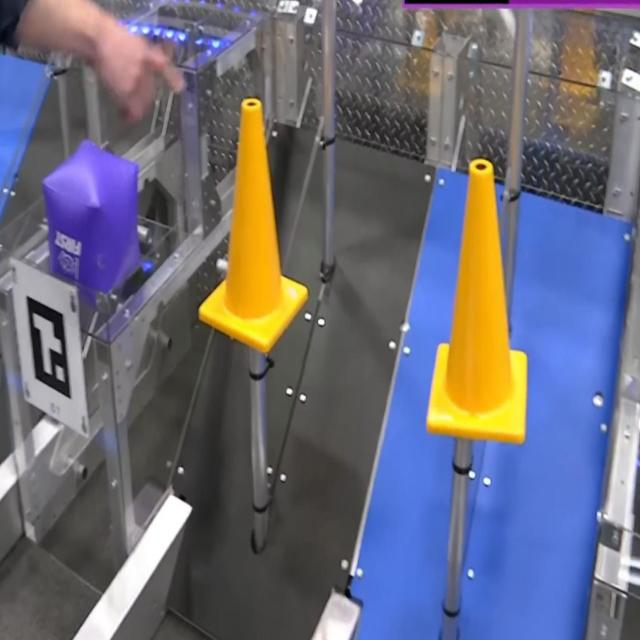frc_cone: (423, 159, 528, 447), (199, 98, 308, 350)
frc_cube: (39, 134, 141, 310)
